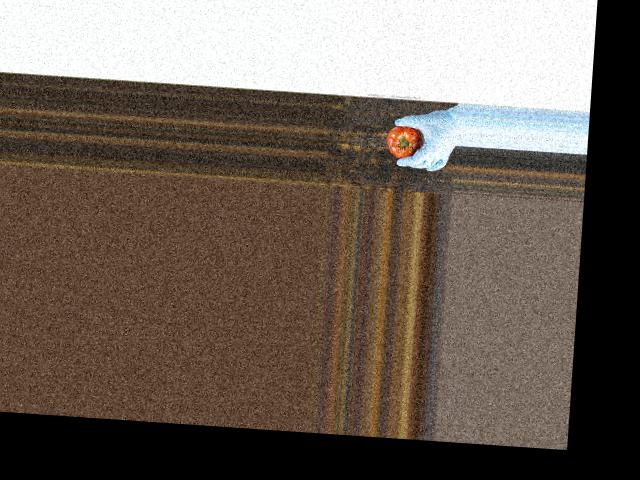tomato: (384, 124, 422, 159)
